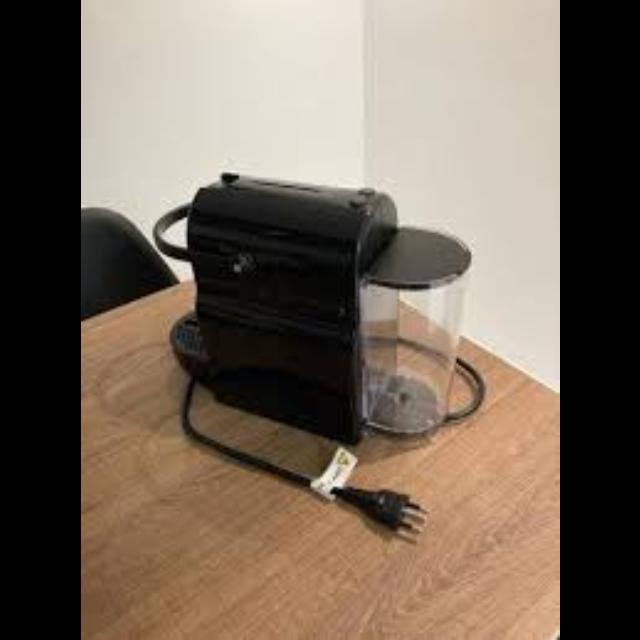Coffee-Machine: (150, 165, 478, 448)
